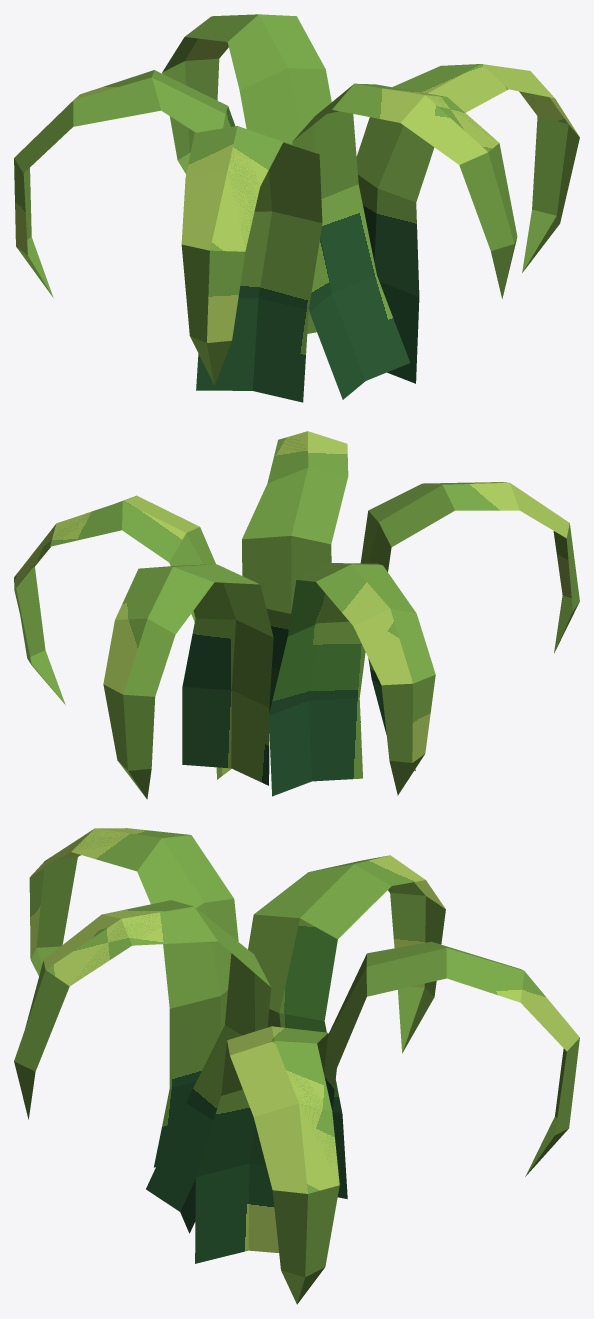
File: grass.fbx
The picture shows the model from 3 angles, top to bottom: view 1: azimuth 30°, elevation 25°; view 2: azimuth 150°, elevation 25°; view 3: azimuth 270°, elevation 25°; orthographic projection. The views are drawn at different scales.
Parts seen in each view (by area): view 1: plane_3, plane_2, plane_1, plane, plane_4; view 2: plane, plane_4, plane_2, plane_3, plane_1; view 3: plane_1, plane_3, plane_4, plane_2, plane.
Boxes of the visible parts, x1,y1,x2,y2 form: plane_3: (181, 126, 322, 402); plane_2: (292, 83, 517, 399); plane_1: (356, 64, 579, 383); plane: (162, 14, 331, 333); plane_4: (14, 70, 235, 297); plane: (103, 564, 273, 799); plane_4: (268, 563, 435, 796); plane_2: (242, 431, 360, 722); plane_3: (360, 482, 579, 770); plane_1: (14, 495, 231, 779); plane_1: (195, 1026, 339, 1304); plane_3: (29, 828, 238, 1167); plane_4: (248, 855, 445, 1199); plane_2: (14, 900, 271, 1233); plane: (324, 941, 579, 1176).
Bounding box in the file's own units: 32.63 × 19.83 × 30.66.
Materials: 1 (1 with a texture image).
